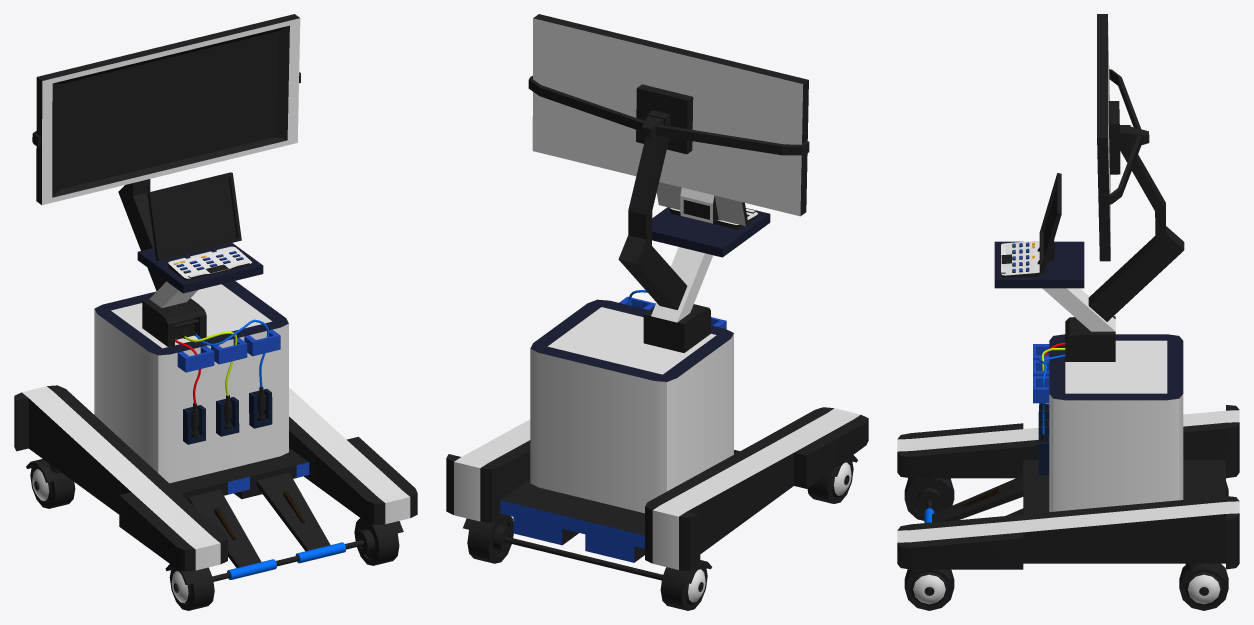
Rendered from Maquina.fbx.
3 renders of one model, left to right at view 1: azimuth 30°, elevation 25°; view 2: azimuth 150°, elevation 25°; view 3: azimuth 270°, elevation 25°, orthographic. The views are drawn at different scales.
Parts seen in each view (by area): view 1: Maquina; view 2: Maquina; view 3: Maquina.
Boxes of the visible parts, left/top/right/bottom form: Maquina: left=14, top=14, right=417, bottom=610; Maquina: left=446, top=14, right=868, bottom=610; Maquina: left=897, top=14, right=1239, bottom=610.
Size of the model in its own units: 2.78 by 4.52 by 2.97.
